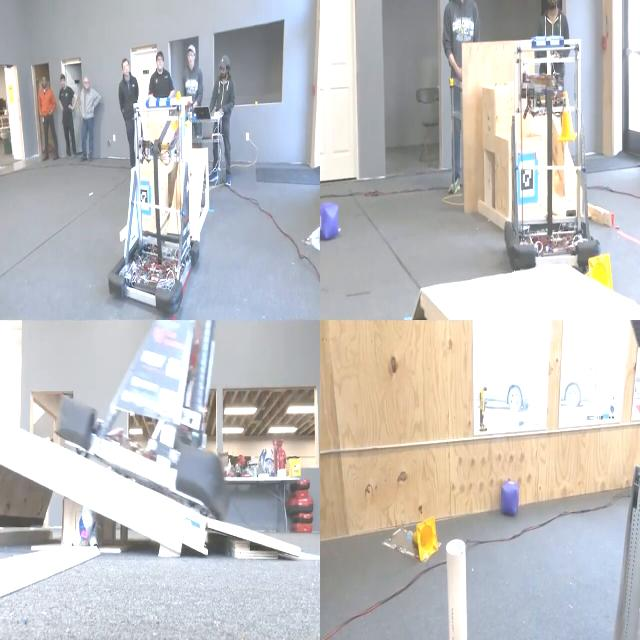frc_cone: (581, 247, 619, 296), (411, 514, 439, 562), (557, 88, 580, 143)
frc_cube: (317, 186, 340, 250), (498, 479, 520, 518)
